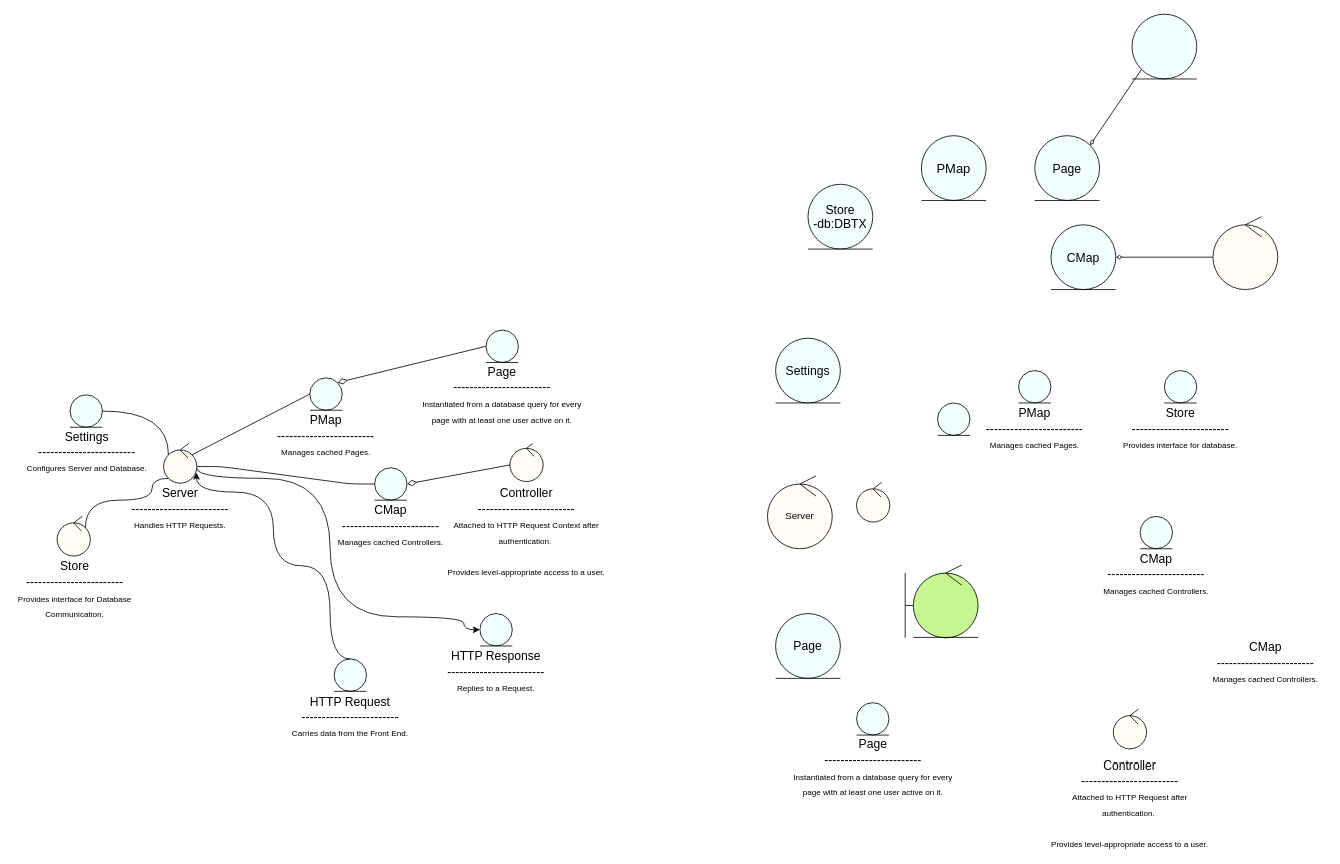
Some shapes in this 1340 by 864 pixel diagram are drawn without their labels. Each missing label, with the centre of its shape:
Cafe: point (945, 605)
Comment: point (1164, 46)
Controller: point (1245, 257)
